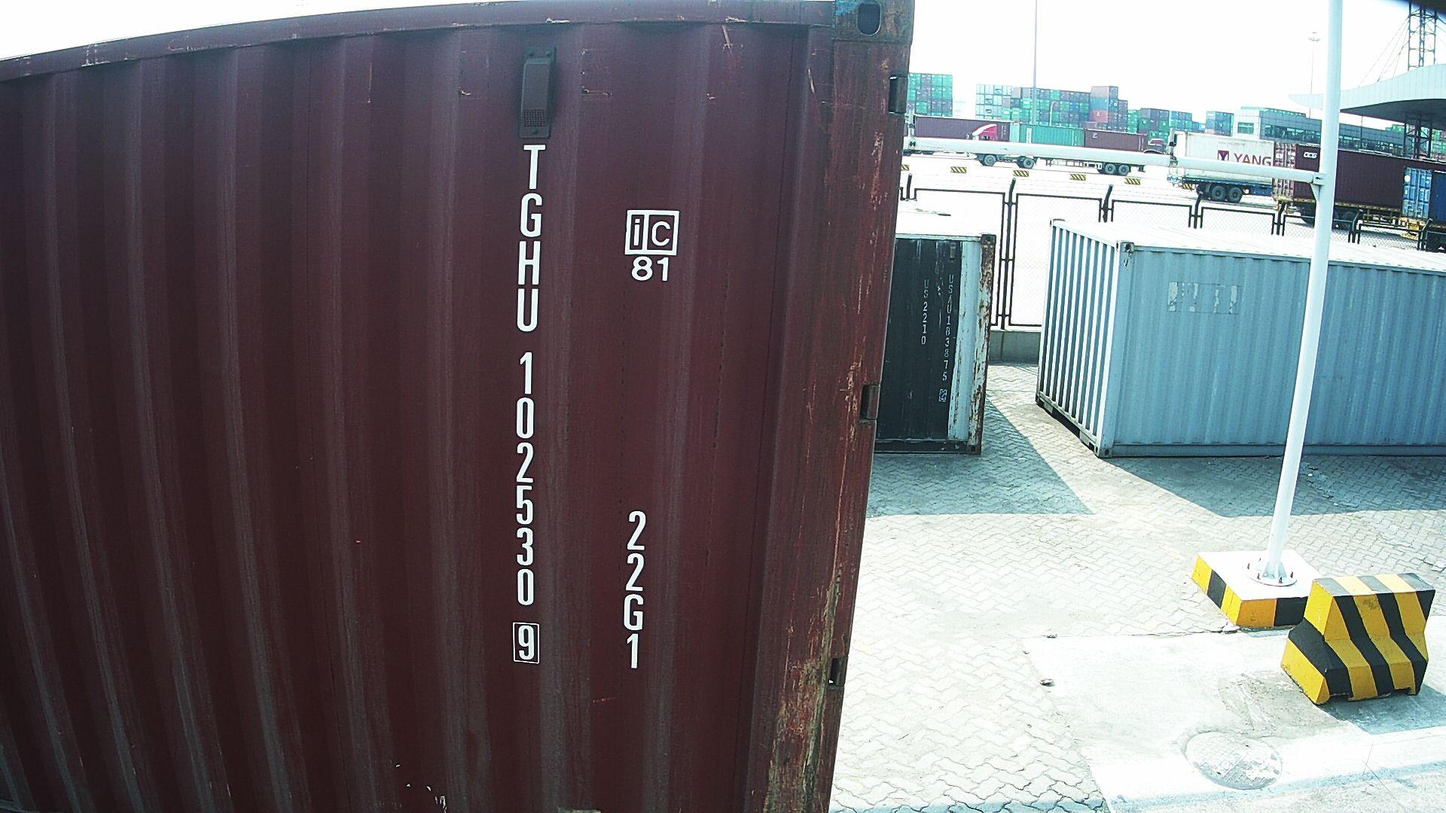container-numbers: (499, 138, 550, 671), (618, 504, 653, 676)
